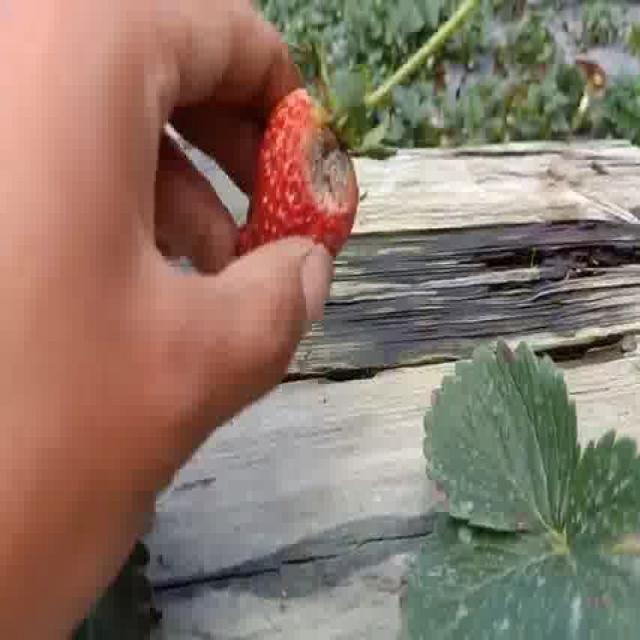Mancha negra Antracnosis: (245, 62, 357, 248)
